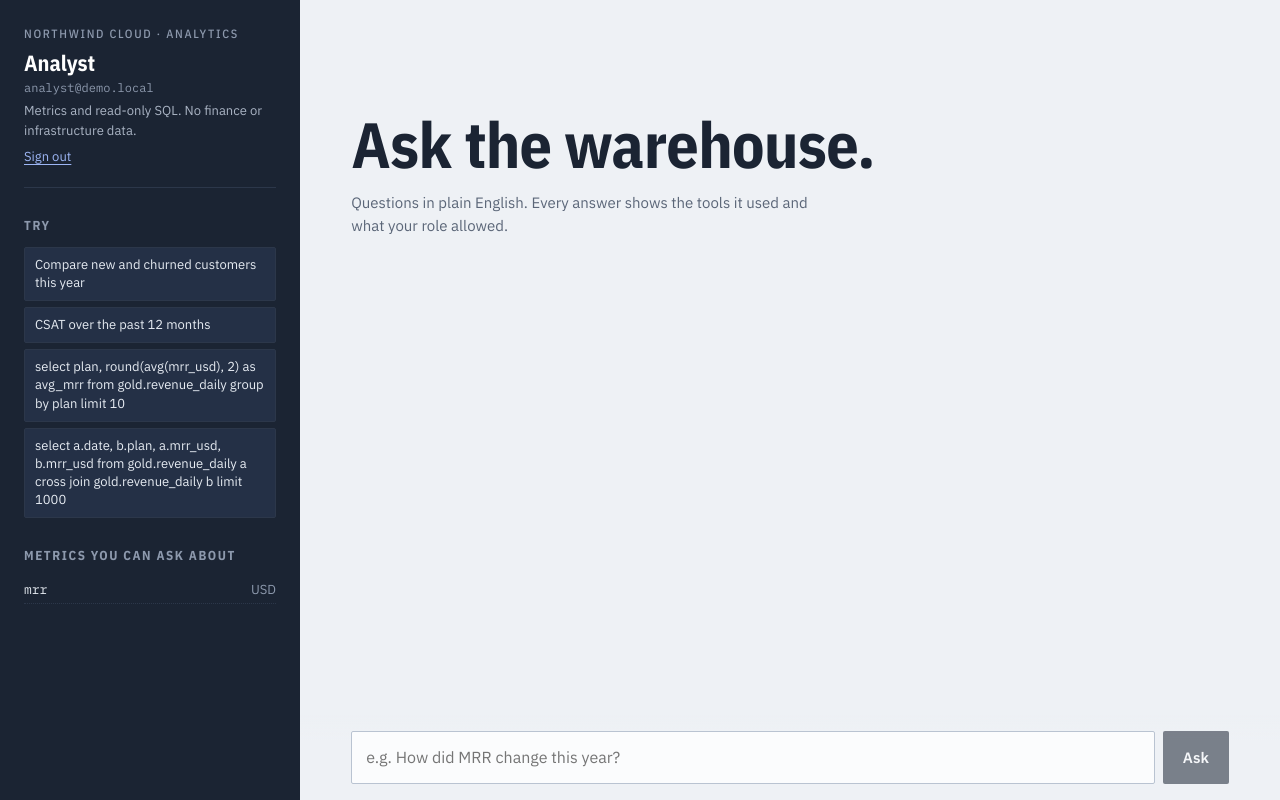
approving a held query adds its result
Type "big one" into the field named "Your question" at (753, 758), box [351,731,1155,784]
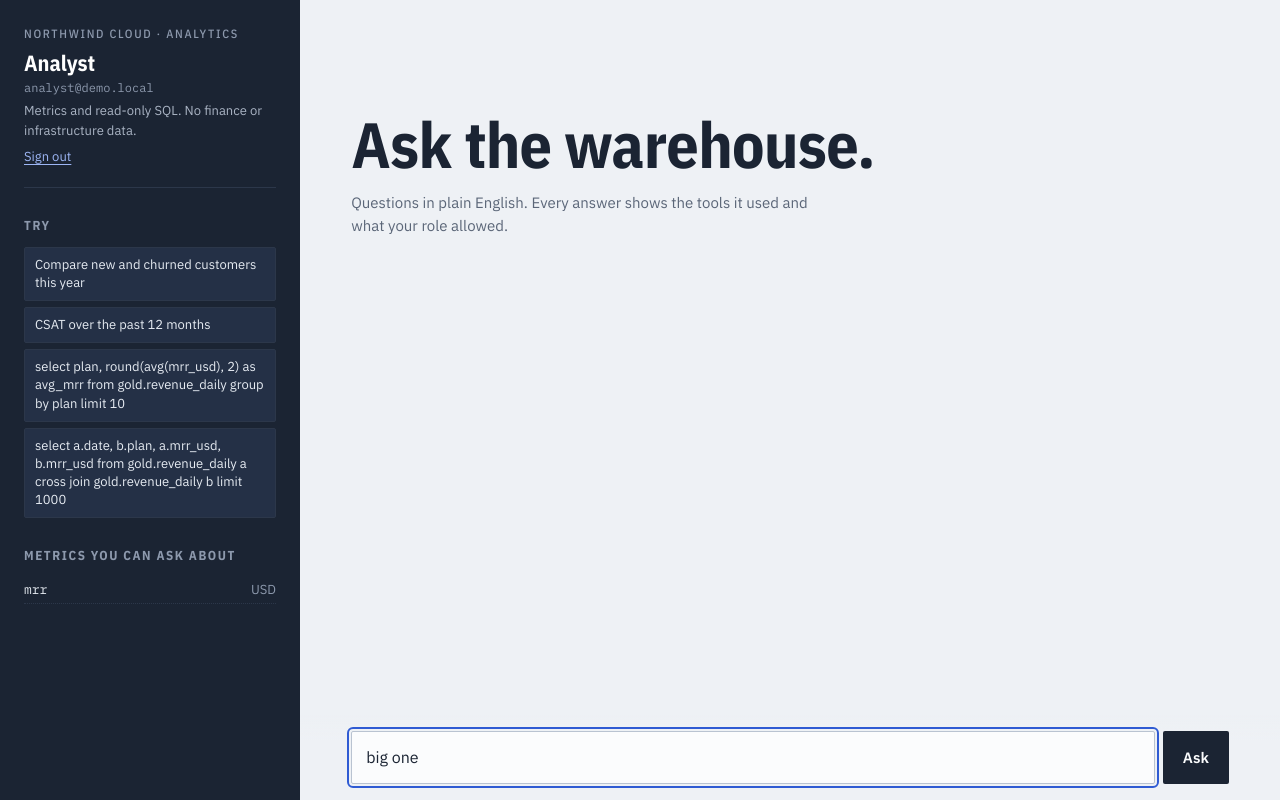
Click the button "Ask" at (1196, 758), box [1163,731,1229,784]
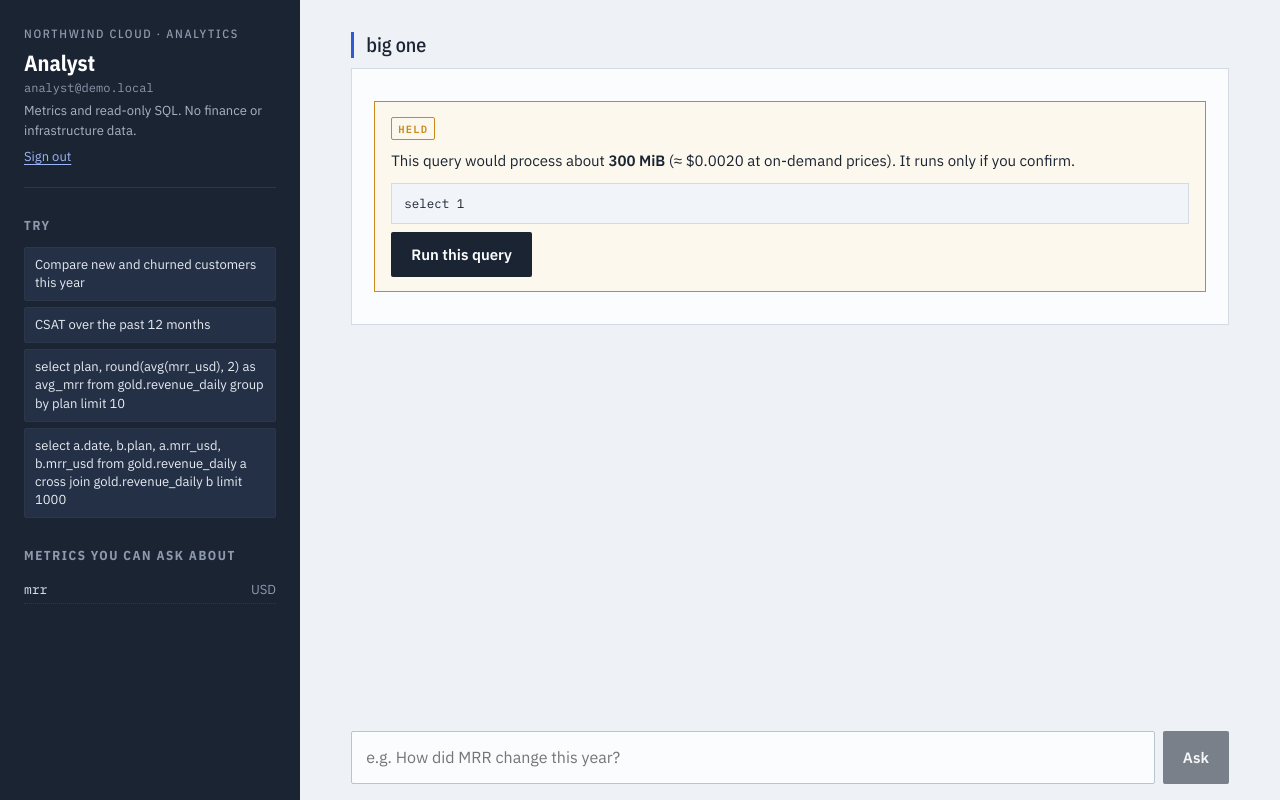
Click the button "Run this query" at (462, 255), box [391,232,532,277]
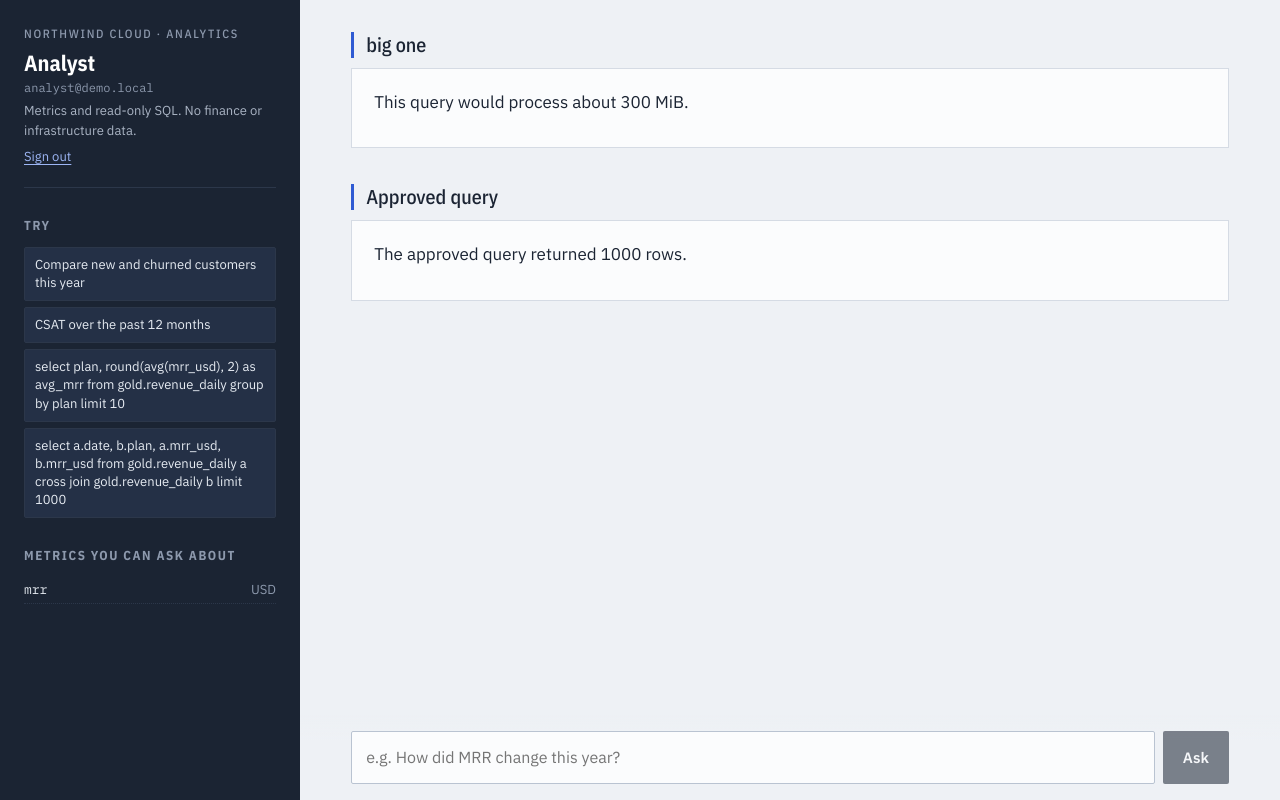
Expected: the text "The approved query returned 1000 rows." is shown, [374,243,687,265]
Expected: the button "Run this query" is gone
